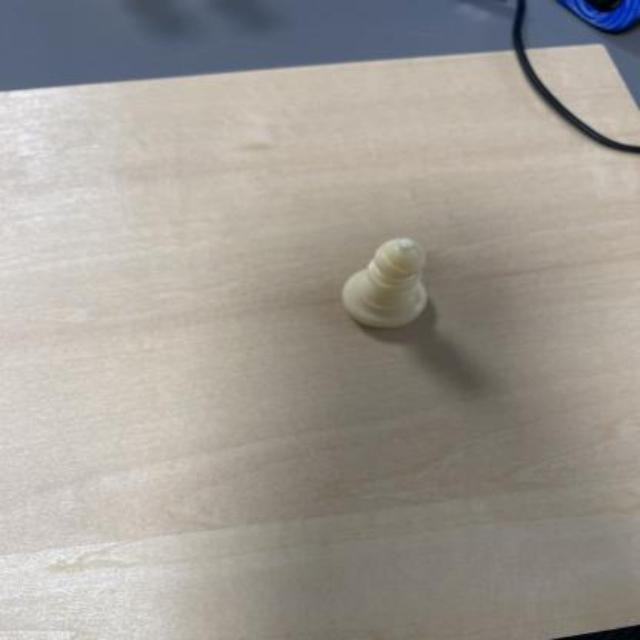white-bishop: (343, 233, 433, 333)
